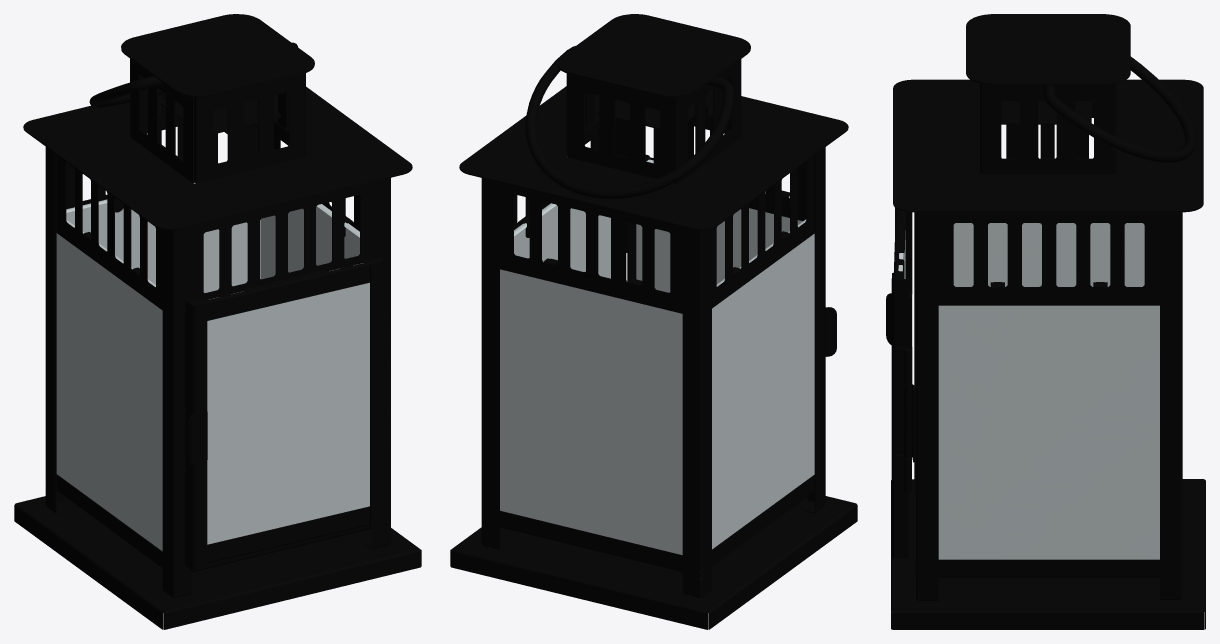
File: borrby_latarenka_60608854.glb
The picture shows the model from 3 angles, left to right: view 1: azimuth 30°, elevation 25°; view 2: azimuth 150°, elevation 25°; view 3: azimuth 270°, elevation 25°; orthographic projection. The views are drawn at different scales.
Parts seen in each view (by area): view 1: borrby_latarenka_60608854; view 2: borrby_latarenka_60608854; view 3: borrby_latarenka_60608854.
Part boxes in pixels (x1,y1,x2,y2): borrby_latarenka_60608854: [14, 14, 421, 629]; borrby_latarenka_60608854: [450, 14, 857, 629]; borrby_latarenka_60608854: [886, 14, 1205, 629].
Bounding box in the file's own units: 0.1106 × 0.1993 × 0.1123.
2 materials, 2 textured.
